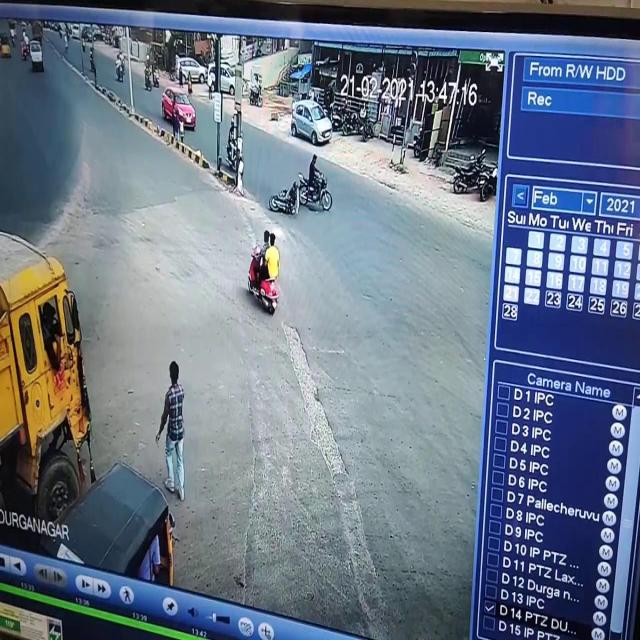accident: (262, 149, 334, 223)
